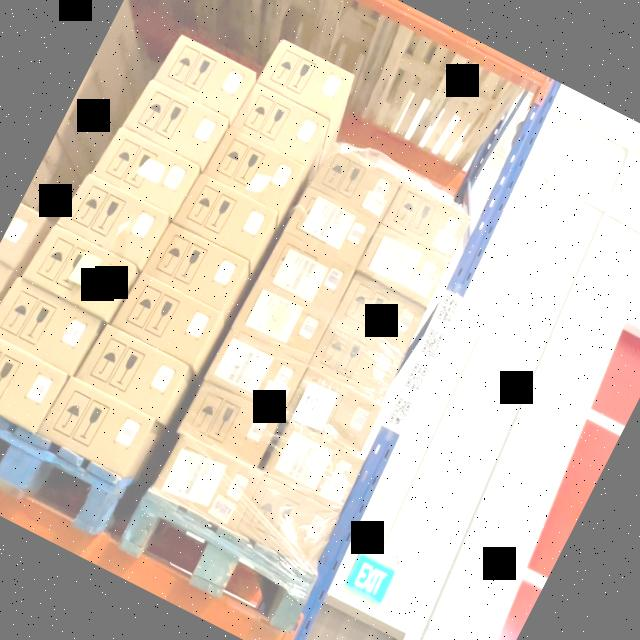box: (46, 382, 151, 470), (81, 326, 186, 412), (180, 377, 280, 462), (30, 229, 130, 313), (0, 282, 96, 368), (268, 424, 364, 508), (160, 442, 258, 524), (64, 179, 159, 261), (120, 278, 217, 357), (211, 328, 305, 409), (287, 372, 381, 452), (100, 129, 194, 209), (237, 280, 331, 358), (244, 483, 338, 561), (128, 85, 222, 163), (264, 231, 355, 311), (160, 38, 251, 116), (180, 180, 271, 256), (312, 322, 402, 398), (361, 226, 448, 304), (151, 230, 242, 304), (262, 42, 350, 116), (235, 86, 323, 160), (314, 144, 400, 218), (291, 188, 378, 260), (336, 278, 424, 349), (211, 133, 298, 204), (0, 334, 62, 426), (385, 188, 467, 254)
